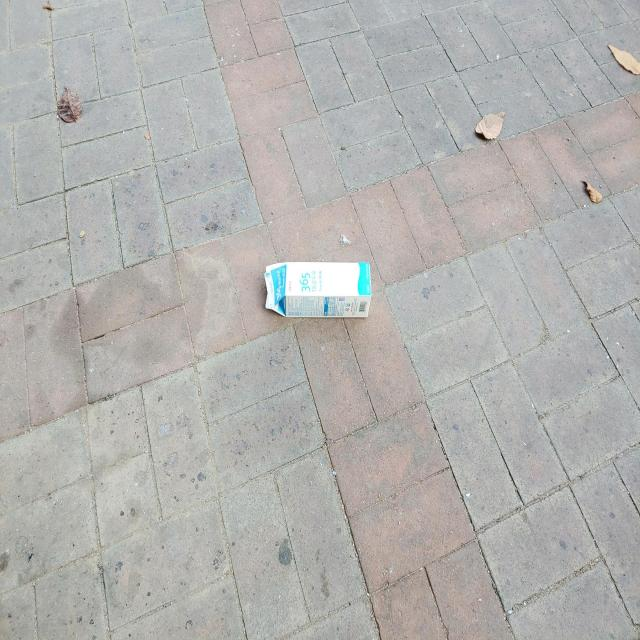paperpack: (265, 262, 372, 318)
